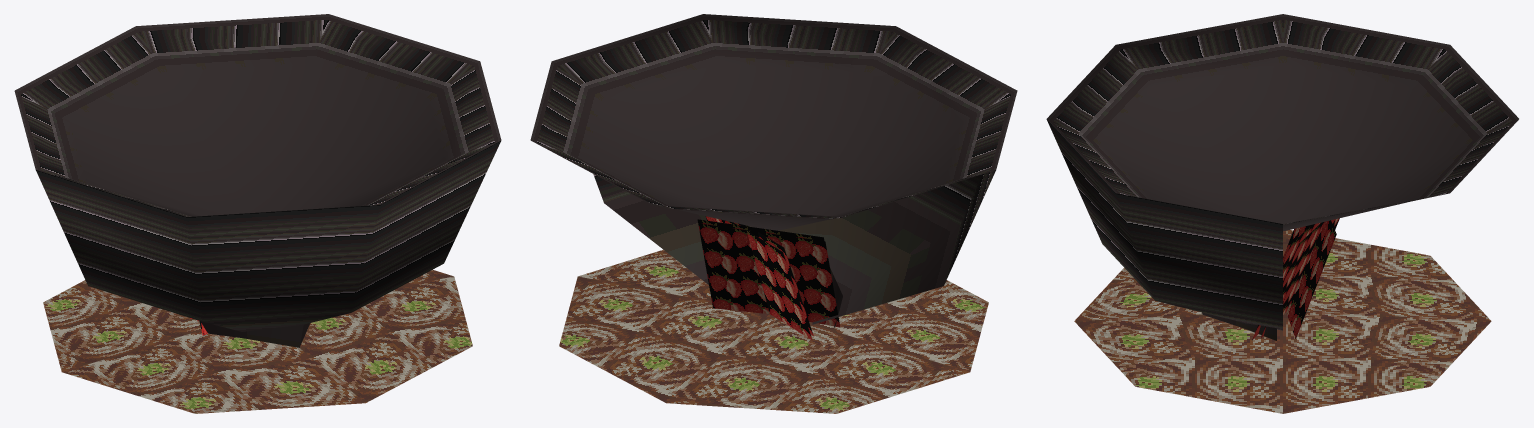
File: 5520u_soba00_hs.gltf
3 views of the same model, side by side, from view 1: azimuth 30°, elevation 25°; view 2: azimuth 150°, elevation 25°; view 3: azimuth 270°, elevation 25° (orthographic). The views are drawn at different scales.
Visible parts, largest first — view 1: 5520u_soba00_hs; view 2: 5520u_soba00_hs; view 3: 5520u_soba00_hs.
Boxes of the visible parts, x1,y1,x2,y2 form: 5520u_soba00_hs: (14,14,501,413); 5520u_soba00_hs: (530,14,1017,413); 5520u_soba00_hs: (1046,14,1518,413).
Size of the model in its own units: 0.7798 by 0.416 by 0.7419.
Materials: 5 (5 with a texture image).
